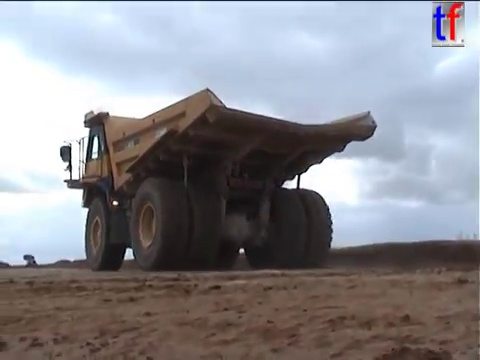truck: (57, 85, 381, 274)
